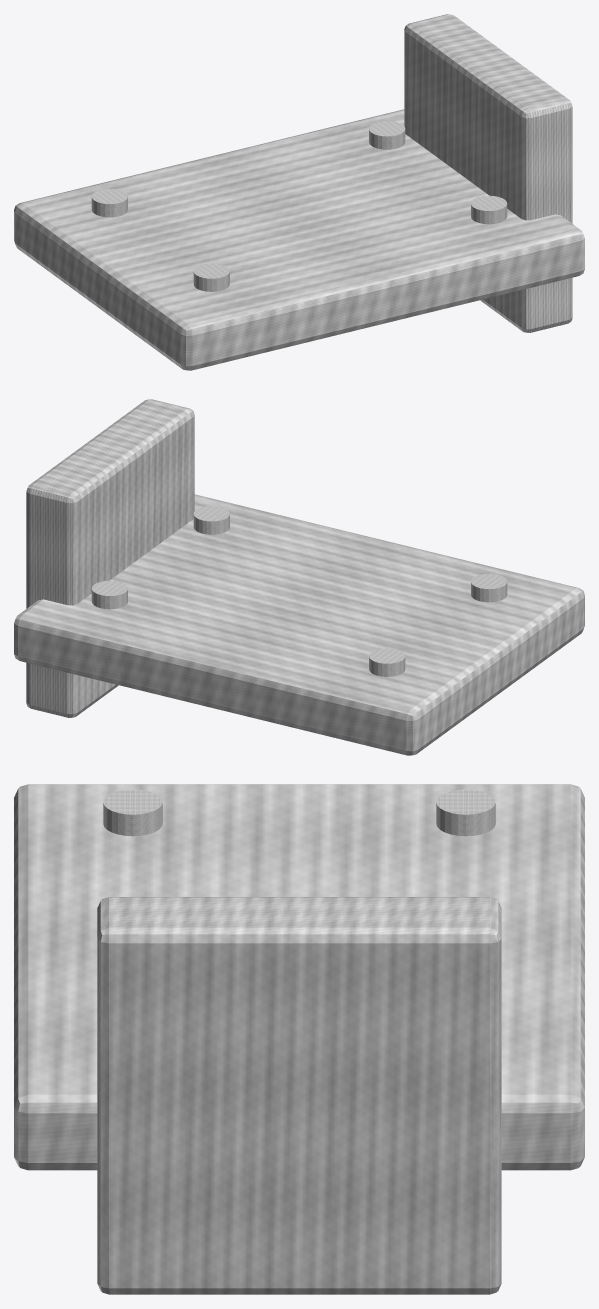
File: item-iron-plate_variant_b.glb
3 views of the same model, one above another, from view 1: azimuth 30°, elevation 25°; view 2: azimuth 150°, elevation 25°; view 3: azimuth 270°, elevation 25° (orthographic). The views are drawn at different scales.
Parts seen in each view (by area): view 1: Flat material sheet.001, Variant reinforcement, Sheet fastener.004, Sheet fastener.007, Sheet fastener.005, Sheet fastener.006; view 2: Flat material sheet.001, Variant reinforcement, Sheet fastener.005, Sheet fastener.006, Sheet fastener.004, Sheet fastener.007; view 3: Variant reinforcement, Flat material sheet.001, Sheet fastener.004, Sheet fastener.005.
Boxes of the visible parts, box(x1,y1,x2,y2) form: Flat material sheet.001: box(14, 109, 584, 370); Variant reinforcement: box(404, 14, 572, 332); Sheet fastener.004: box(193, 263, 229, 291); Sheet fastener.007: box(369, 121, 405, 149); Sheet fastener.005: box(91, 189, 127, 217); Sheet fastener.006: box(471, 195, 507, 224); Flat material sheet.001: box(14, 494, 584, 755); Variant reinforcement: box(26, 399, 194, 717); Sheet fastener.005: box(369, 648, 405, 676); Sheet fastener.006: box(193, 506, 229, 534); Sheet fastener.004: box(471, 574, 507, 602); Sheet fastener.007: box(91, 580, 127, 609); Variant reinforcement: box(97, 897, 501, 1294); Flat material sheet.001: box(14, 784, 584, 1170); Sheet fastener.004: box(103, 789, 162, 836); Sheet fastener.005: box(436, 789, 495, 836).
Size of what is drawn, in the model's own units: 0.66 by 0.34 by 0.48.
3 materials, 3 textured.
